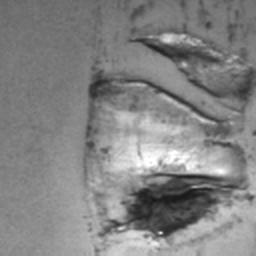Slag inclusion: (79, 59, 256, 256), (125, 0, 256, 114), (224, 0, 244, 44), (128, 0, 154, 22), (196, 0, 214, 29), (131, 27, 140, 33)
